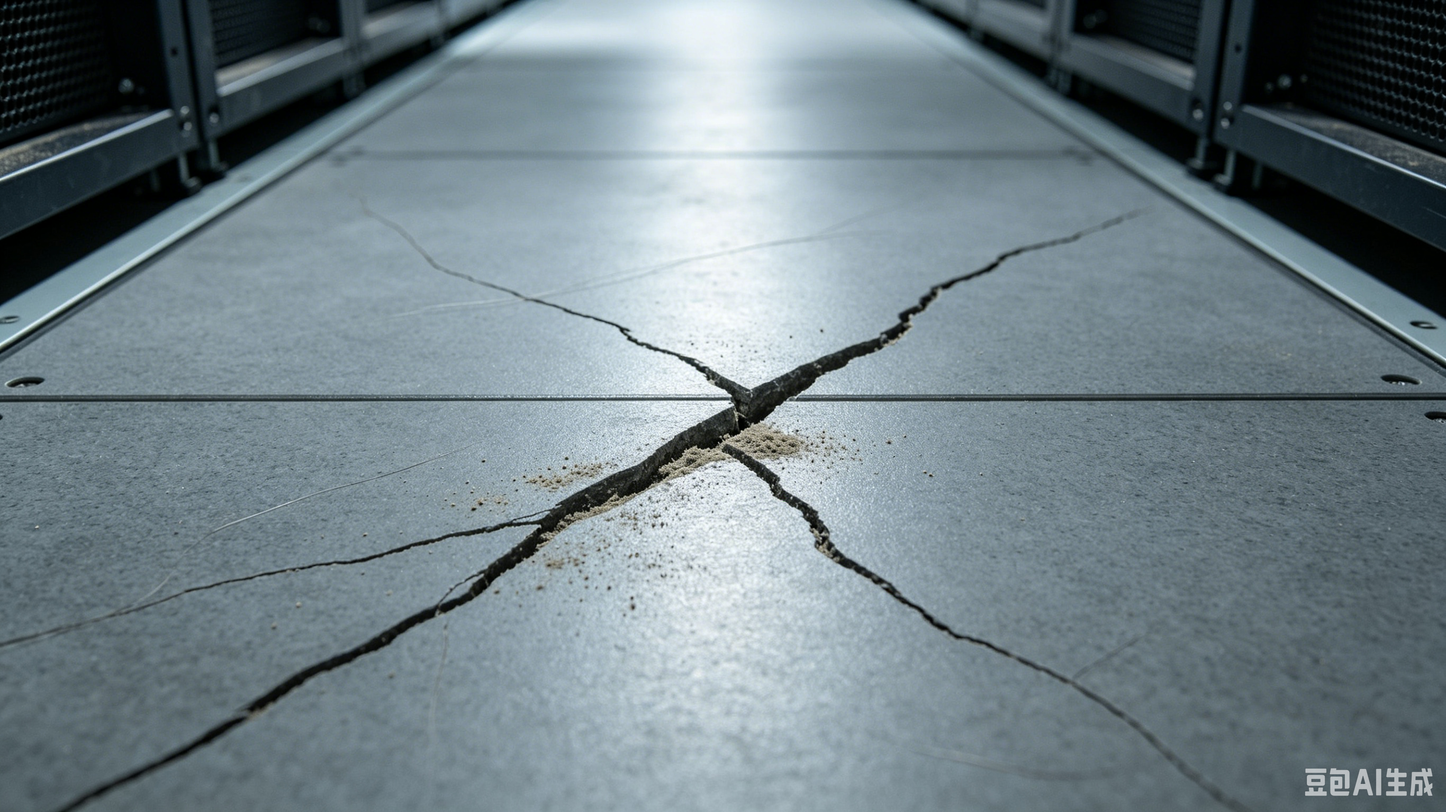floor_defect: (432, 256, 977, 641), (1068, 691, 1243, 812), (302, 599, 449, 696), (56, 728, 232, 805), (209, 638, 335, 725), (980, 227, 1133, 290), (974, 635, 1090, 684)
